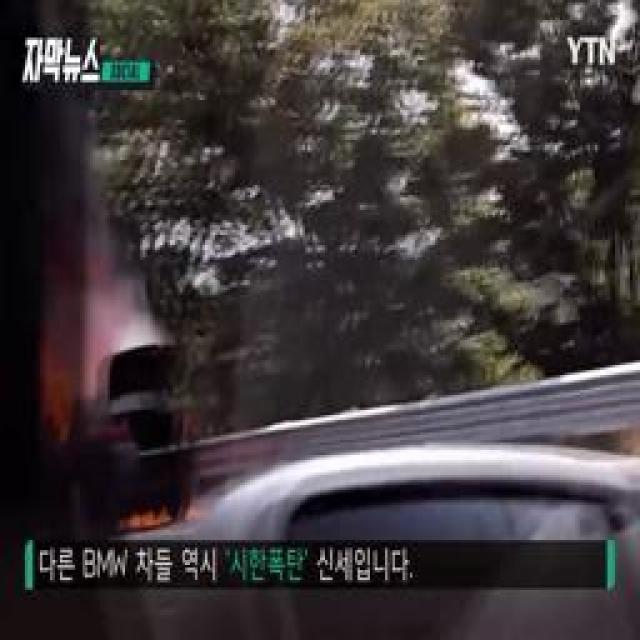Fire: (40, 319, 81, 447)
